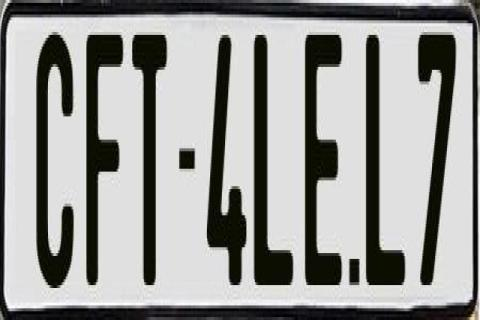0: (204, 26, 248, 291), (416, 35, 458, 291)
C: (36, 32, 76, 302)
E: (305, 26, 345, 288)
F: (86, 35, 126, 288)
L: (366, 32, 410, 296), (253, 35, 295, 288)
T: (131, 32, 171, 296)
